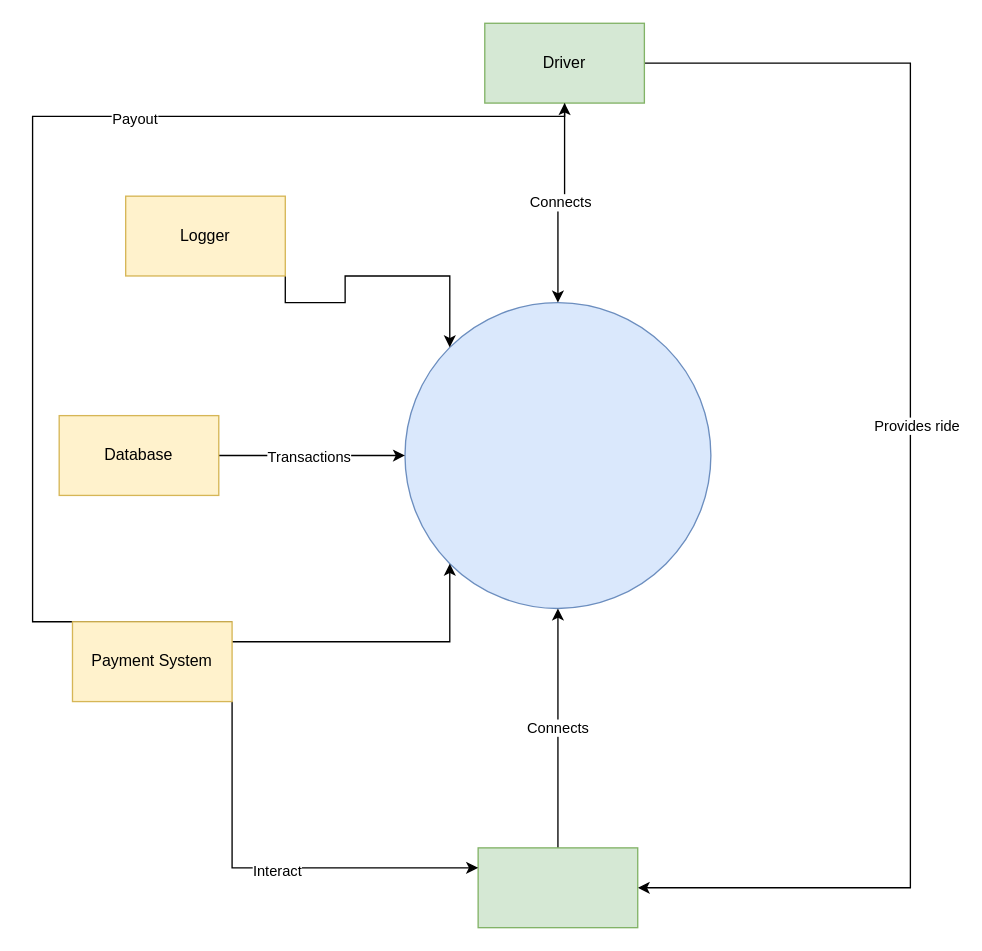
Some shapes in this 982 by 951 pixel diagram are drawn without their labels. Each missing label, with the centre of its shape:
"M.O.T.U.S." belongs at [557,454].
"Rider" belongs at [557,887].
